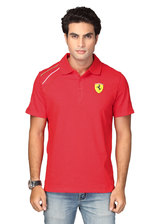clothoes: (26, 51, 137, 195), (23, 178, 46, 190)
